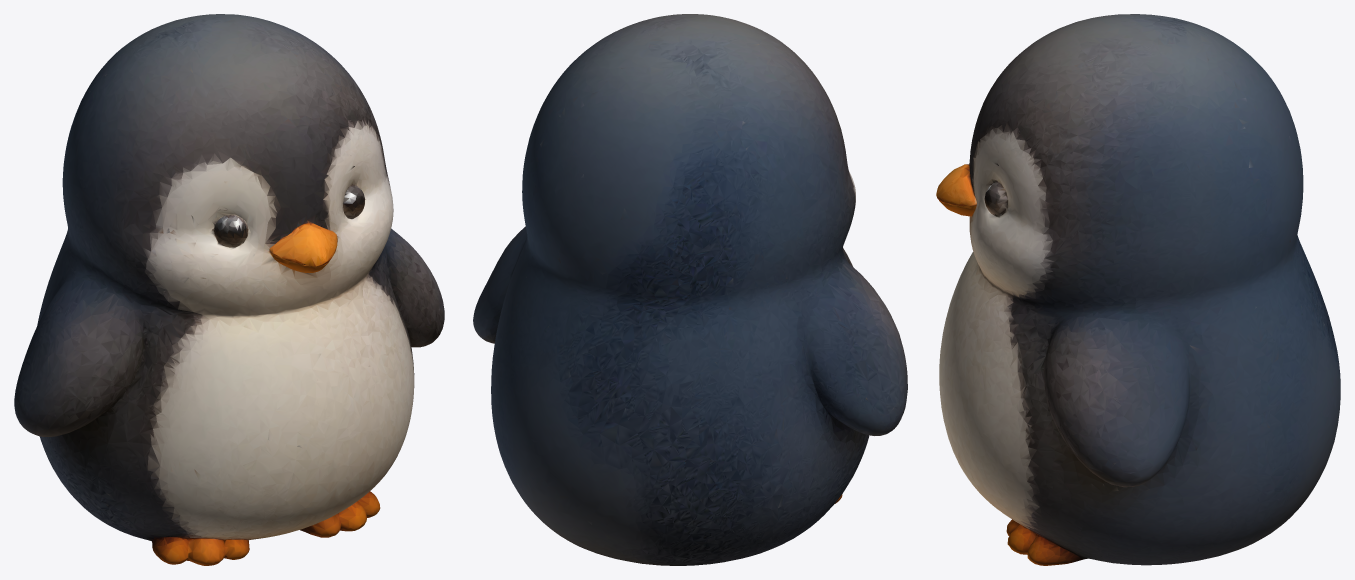
The model's file is pet_penguin.glb.
3 views of the same model, side by side, from view 1: azimuth 30°, elevation 25°; view 2: azimuth 150°, elevation 25°; view 3: azimuth 270°, elevation 25° (orthographic). The views are drawn at different scales.
Visible parts, largest first — view 1: penguin; view 2: penguin; view 3: penguin.
Boxes of the visible parts, left/top/right/bottom form: penguin: left=14, top=14, right=444, bottom=565; penguin: left=473, top=14, right=907, bottom=565; penguin: left=936, top=14, right=1340, bottom=565.
Size of the model in its own units: 0.9157 by 1 by 0.7558.
Materials: 1 (1 with a texture image).
